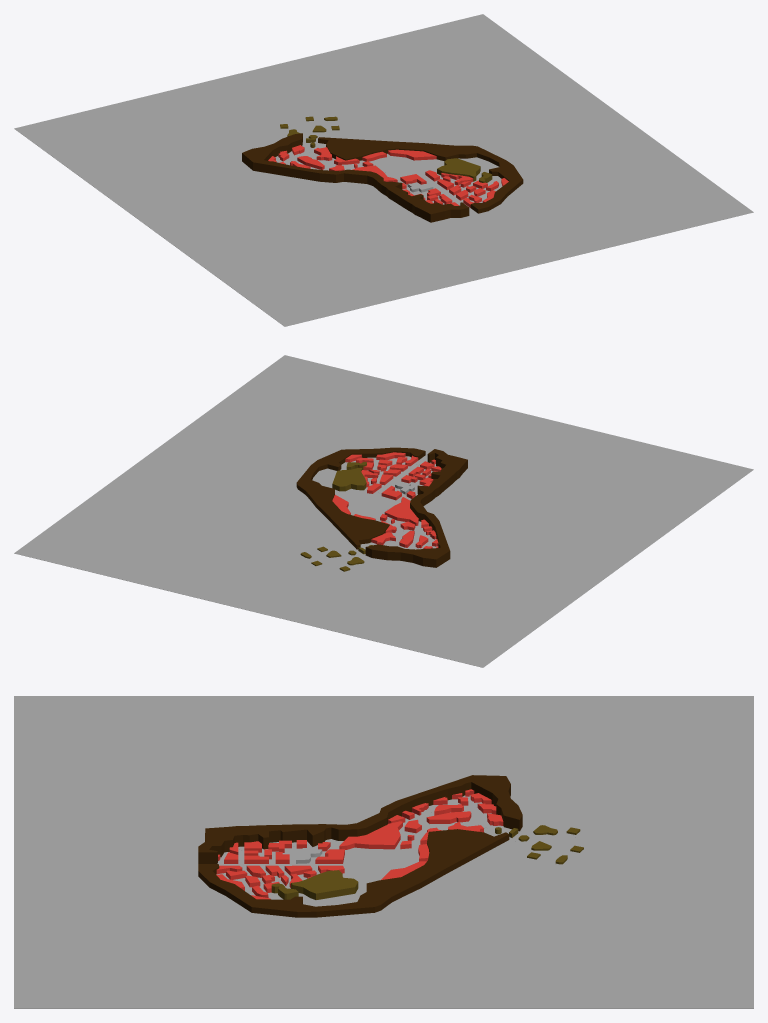
Rendered from lvl2_blockout.fbx.
The picture shows the model from 3 angles, top to bottom: view 1: azimuth 30°, elevation 25°; view 2: azimuth 150°, elevation 25°; view 3: azimuth 270°, elevation 25°; orthographic projection. The views are drawn at different scales.
Visible parts, largest first — view 1: plane, wall_02, home, wall_01, rocks; view 2: plane, home, wall_01, wall_02, rocks; view 3: plane, home, wall_01, wall_02, rocks.
Part boxes in pixels (x1=…): plane: x1=14, y1=14, x2=753, y2=326; wall_02: x1=242, y1=133, x2=469, y2=222; home: x1=268, y1=145, x2=508, y2=207; wall_01: x1=318, y1=137, x2=523, y2=213; rocks: x1=280, y1=116, x2=492, y2=182; plane: x1=14, y1=355, x2=753, y2=667; home: x1=332, y1=452, x2=441, y2=548; wall_01: x1=296, y1=447, x2=425, y2=549; wall_02: x1=365, y1=449, x2=467, y2=567; rocks: x1=300, y1=461, x2=387, y2=571; plane: x1=14, y1=696, x2=753, y2=1008; home: x1=216, y1=789, x2=503, y2=899; wall_01: x1=198, y1=829, x2=509, y2=917; wall_02: x1=198, y1=775, x2=522, y2=863; rocks: x1=271, y1=825, x2=583, y2=899.
Bounding box in the file's own units: 1221 × 32.02 × 1221.
